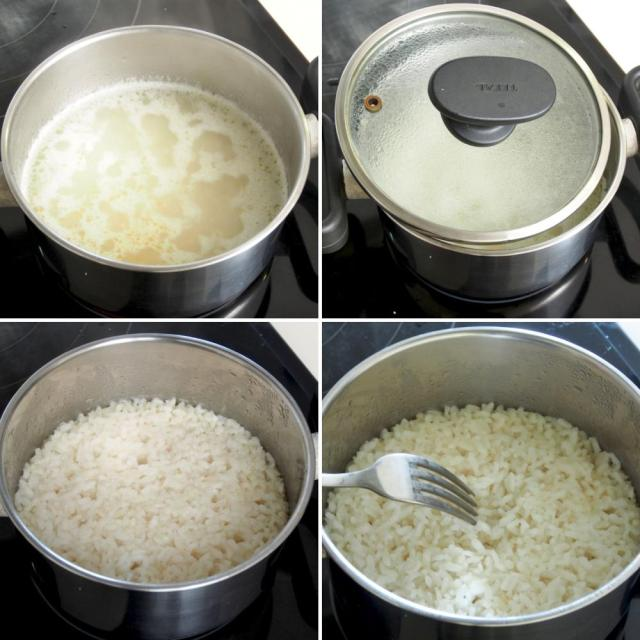arroz: (13, 368, 285, 594)
